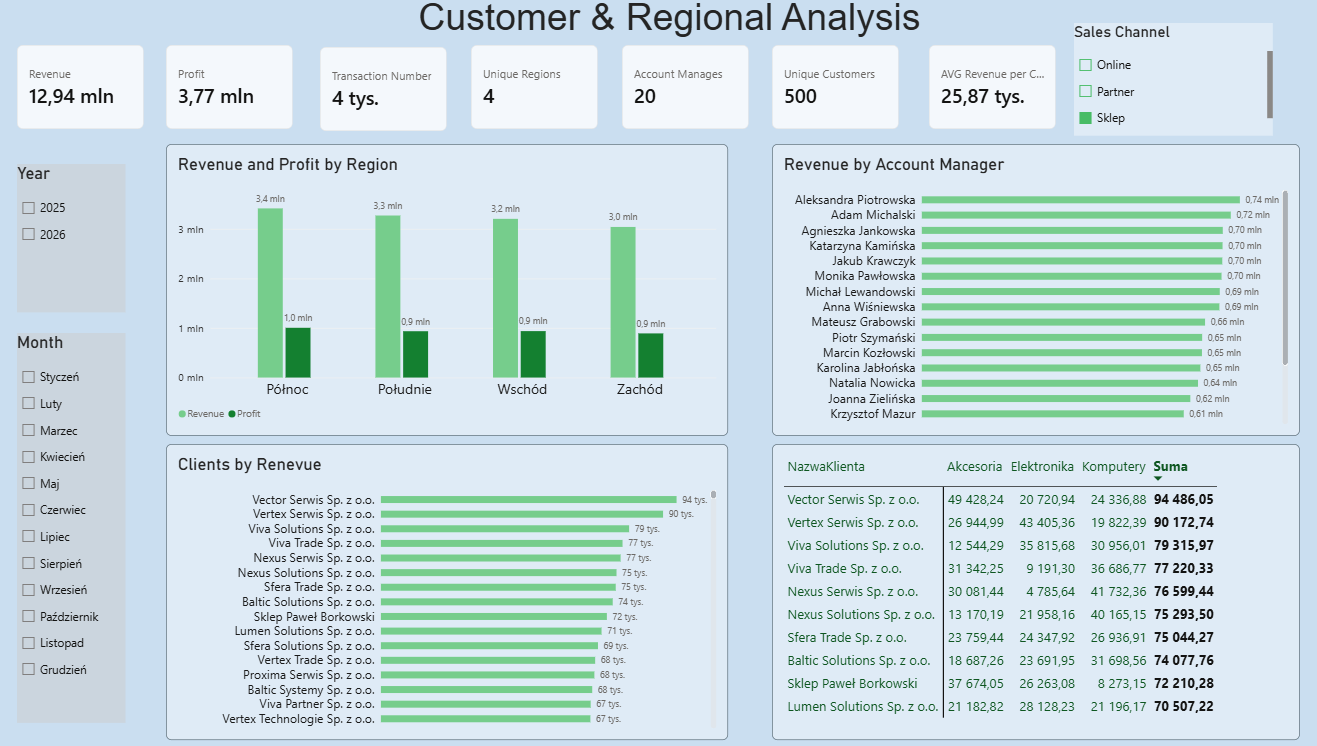

Layout of this report page (visuals, bound fields, positions):
{"tool":"powerbi","page":{"name":"Customer & Regional Analysis","canvas":[1920,1080],"ordinal":2},"visuals":[{"type":"textbox","box":[10,0,1910,77.1],"z":0},{"type":"clusteredColumnChart","title":"Revenue and Profit by Region","fields":{"Category":["sprzedaz.Region"],"Y":["Miary.Revenue","Miary.Profit"]},"box":[245,211.7,803.3,416.7],"z":1000},{"type":"clusteredBarChart","title":"Revenue by Account Manager","fields":{"Category":["klienci.Opiekun"],"Y":["Miary.Revenue"]},"box":[1111.4,211.4,754.3,417.1],"z":2000},{"type":"clusteredBarChart","title":"Clients by Renevue","fields":{"Category":["klienci.NazwaKlienta"],"Y":["Miary.Revenue"]},"box":[245,640,803.3,423.3],"z":3000},{"type":"cardVisual","fields":{"Data":["Miary.Unique Regions"]},"box":[681.7,70,181.7,120],"z":4000},{"type":"cardVisual","fields":{"Data":["Miary.Unique Customers"]},"box":[1111.4,70,181.4,120],"z":5000},{"type":"cardVisual","fields":{"Data":["Miary.Account Manages"]},"box":[896.7,70,181.7,120],"z":6000},{"type":"cardVisual","fields":{"Data":["Miary.Revenue"]},"box":[33.3,70,181.7,120],"z":7000},{"type":"cardVisual","fields":{"Data":["Miary.Profit"]},"box":[245,70,181.7,120],"z":8000},{"type":"cardVisual","fields":{"Data":["Miary.Transaction Number"]},"box":[465,73.3,181.7,120],"z":9000},{"type":"cardVisual","fields":{"Data":["Miary.AVG Revenue per Customer"]},"box":[1335.7,70,181.4,120],"z":10000},{"type":"slicer","title":"Month","fields":{"Values":["kalendarz.NazwaMiesiac"]},"box":[33.3,481.7,155,556.7],"z":11000},{"type":"slicer","title":"Year","fields":{"Values":["kalendarz.Rok"]},"box":[33.3,240,155,211.7],"z":12000},{"type":"slicer","title":"Sales Channel","fields":{"Values":["kanały.Kanal"]},"box":[1542.9,38.6,284.3,161.4],"z":12001},{"type":"pivotTable","fields":{"Columns":["produkty.Kategoria"],"Rows":["klienci.NazwaKlienta"],"Values":["Miary.Revenue"]},"box":[1111.4,640,754.3,422.9],"z":12002}]}

Visuals, with their boxes in screenshot pixels (x1, y1, x2, y2), scaled from the page's 1920x1080 canvas onto the 1317x746 screenshot:
textbox: x1=7 y1=0 x2=1316 y2=53
"Revenue and Profit by Region" clusteredColumnChart: x1=168 y1=146 x2=719 y2=434
"Revenue by Account Manager" clusteredBarChart: x1=762 y1=146 x2=1280 y2=434
"Clients by Renevue" clusteredBarChart: x1=168 y1=442 x2=719 y2=734
cardVisual - Miary.Unique Regions: x1=468 y1=48 x2=592 y2=131
cardVisual - Miary.Unique Customers: x1=762 y1=48 x2=887 y2=131
cardVisual - Miary.Account Manages: x1=615 y1=48 x2=740 y2=131
cardVisual - Miary.Revenue: x1=23 y1=48 x2=147 y2=131
cardVisual - Miary.Profit: x1=168 y1=48 x2=293 y2=131
cardVisual - Miary.Transaction Number: x1=319 y1=51 x2=444 y2=134
cardVisual - Miary.AVG Revenue per Customer: x1=916 y1=48 x2=1041 y2=131
"Month" slicer: x1=23 y1=333 x2=129 y2=717
"Year" slicer: x1=23 y1=166 x2=129 y2=312
"Sales Channel" slicer: x1=1058 y1=27 x2=1253 y2=138
pivotTable - produkty.Kategoria x klienci.NazwaKlienta: x1=762 y1=442 x2=1280 y2=734
